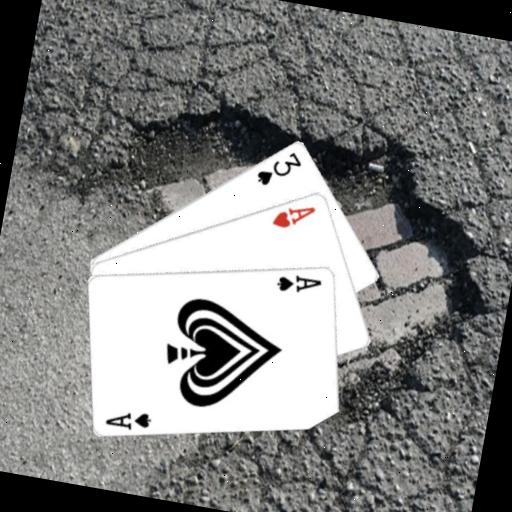3S: (251, 143, 305, 193)
AH: (268, 195, 318, 234)
AS: (102, 402, 155, 434), (272, 267, 324, 299)
